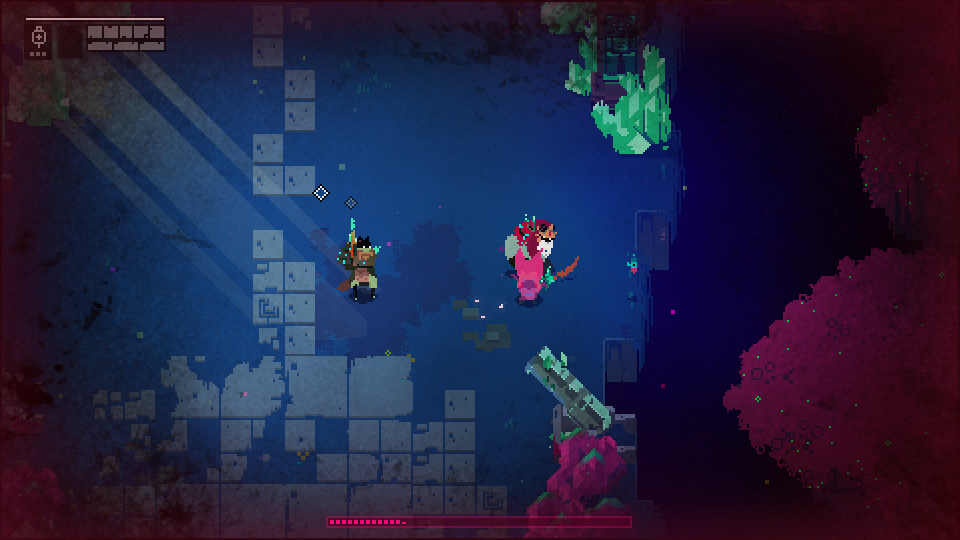hanged_man: (497, 212, 571, 292)
player: (514, 248, 545, 305)
